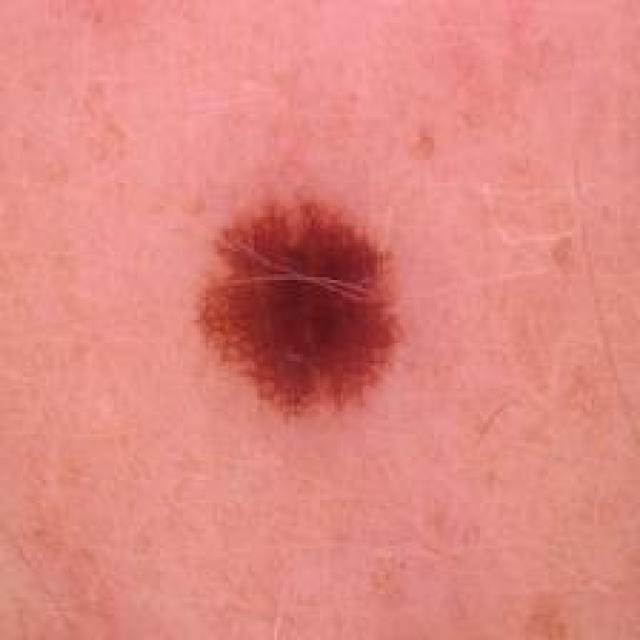Cancer: (191, 195, 406, 421)
